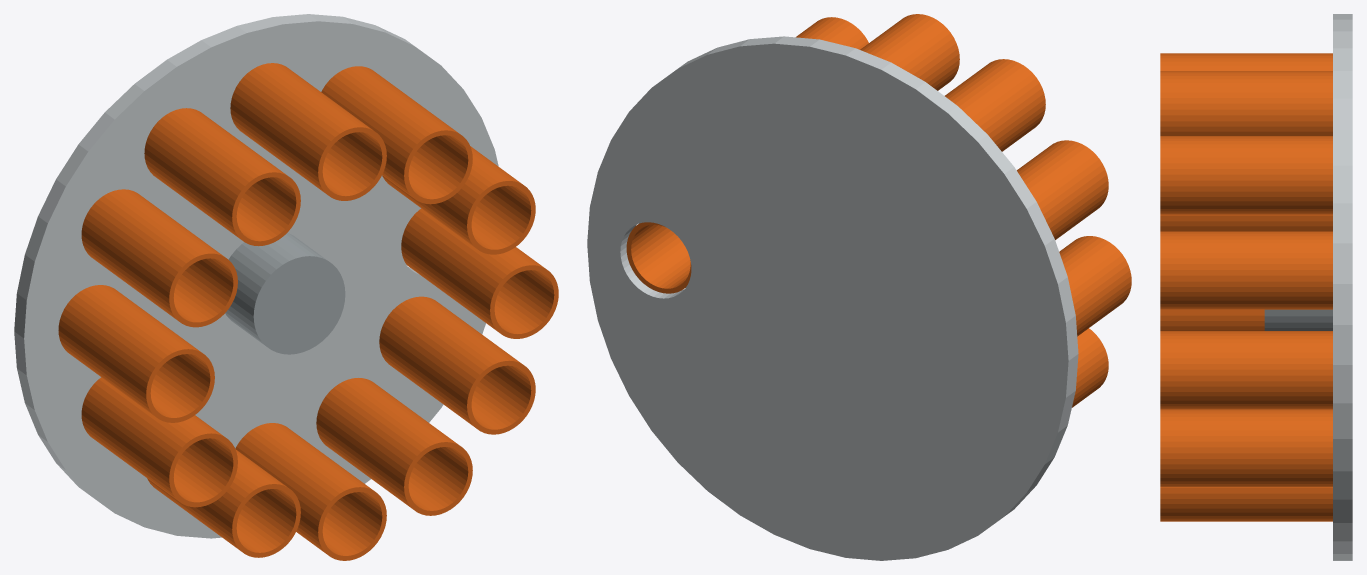
Rendered from carousel_link.obj.
3 renders of one model, left to right at view 1: azimuth 30°, elevation 25°; view 2: azimuth 150°, elevation 25°; view 3: azimuth 270°, elevation 25°, orthographic.
Visible parts, largest first — view 1: cups_1, plate_0, hub_2; view 2: plate_0, cups_1; view 3: cups_1, plate_0, hub_2.
Part boxes in pixels (x1,y1,x2,y2): cups_1: [58, 63, 558, 560]; plate_0: [14, 14, 498, 538]; hub_2: [225, 232, 345, 354]; plate_0: [587, 36, 1078, 560]; cups_1: [626, 14, 1131, 407]; cups_1: [1160, 53, 1332, 521]; plate_0: [1333, 14, 1352, 560]; hub_2: [1264, 309, 1332, 330].
Size of the model in its own units: 0.42 by 0.4188 by 0.1475.
